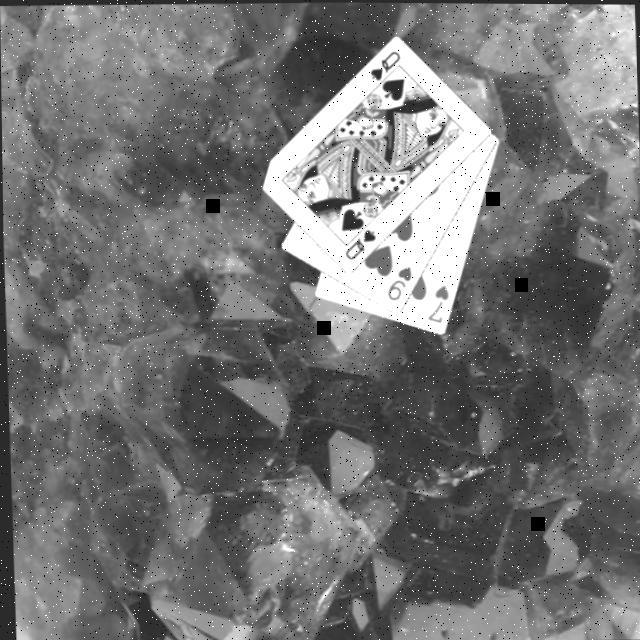7H: (423, 280, 453, 324)
9H: (384, 261, 416, 302)
QS: (340, 224, 379, 261), (366, 46, 405, 83)
